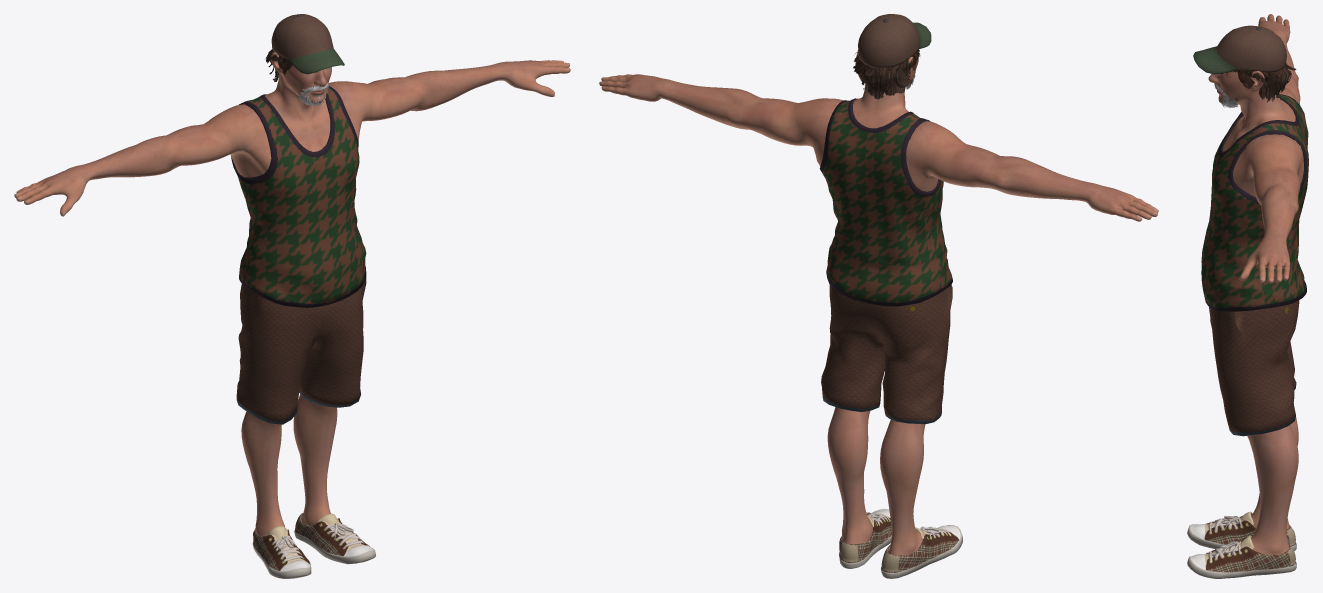
The model's file is SkaterGuy.obj.
3 views of the same model, side by side, from view 1: azimuth 30°, elevation 25°; view 2: azimuth 150°, elevation 25°; view 3: azimuth 270°, elevation 25° (orthographic).
Visible parts, largest first — view 1: Body, Tops, Bottoms, Shoes, Hats; view 2: Body, Tops, Bottoms, Shoes, Hats, Hair; view 3: Body, Tops, Bottoms, Shoes, Hats, Hair.
Boxes of the visible parts, x1,y1,x2,y2 form: Body: (14, 52, 570, 536); Tops: (231, 86, 366, 307); Bottoms: (236, 277, 366, 424); Shoes: (252, 513, 375, 578); Hats: (271, 14, 344, 74); Body: (599, 49, 1158, 555); Tops: (819, 98, 952, 306); Bottoms: (821, 284, 952, 424); Shoes: (839, 509, 962, 578); Hats: (858, 14, 931, 68); Hair: (853, 49, 920, 99); Body: (1208, 14, 1303, 554); Tops: (1201, 94, 1308, 311); Bottoms: (1209, 300, 1299, 436); Shoes: (1187, 511, 1296, 578); Hats: (1193, 25, 1286, 74); Hair: (1226, 63, 1296, 102).
Bounding box in the file's own units: 194 × 180 × 37.5.
